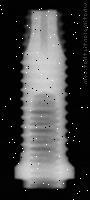Biomet 3i: (13, 6, 86, 191)
